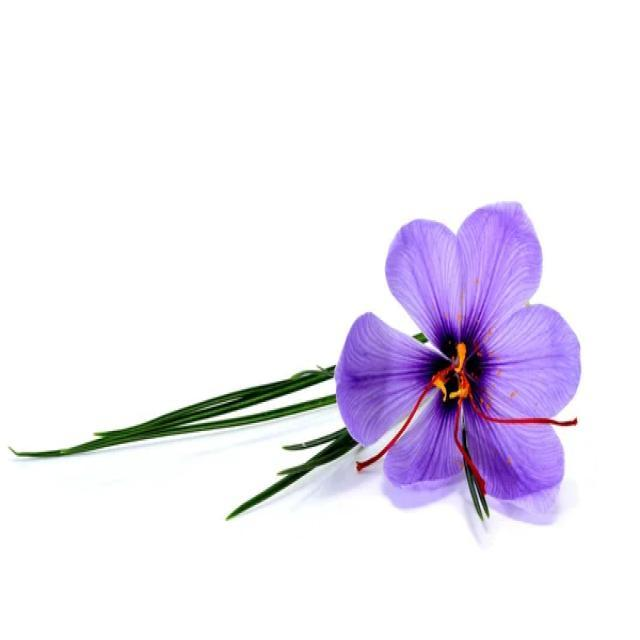Flower: (354, 202, 582, 529)
stigma: (354, 375, 440, 475), (450, 382, 491, 497), (472, 391, 585, 432)
